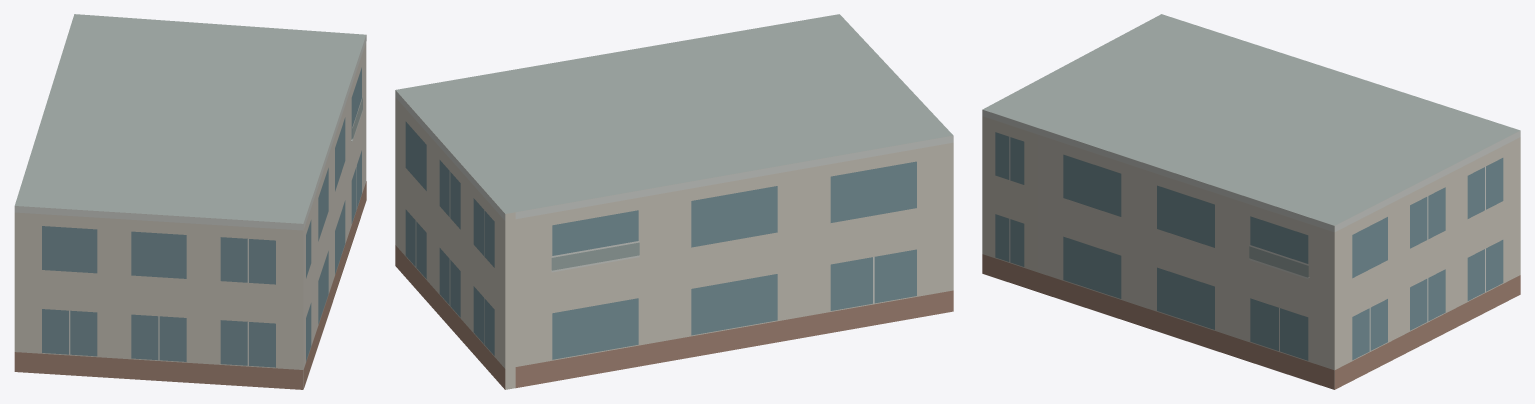
Rendered from survey-upis-32915722.glb.
3 views of the same model, side by side, from view 1: azimuth 30°, elevation 25°; view 2: azimuth 150°, elevation 25°; view 3: azimuth 270°, elevation 25° (orthographic). The views are drawn at different scales.
Parts seen in each view (by area): view 1: survey-upis-32915722.tmp; view 2: survey-upis-32915722.tmp; view 3: survey-upis-32915722.tmp.
Part boxes in pixels (x1,y1,x2,y2): survey-upis-32915722.tmp: (14, 14, 366, 389); survey-upis-32915722.tmp: (395, 14, 953, 389); survey-upis-32915722.tmp: (982, 14, 1520, 389).
Size of the model in its own units: 16.9 by 6.1 by 18.15.
